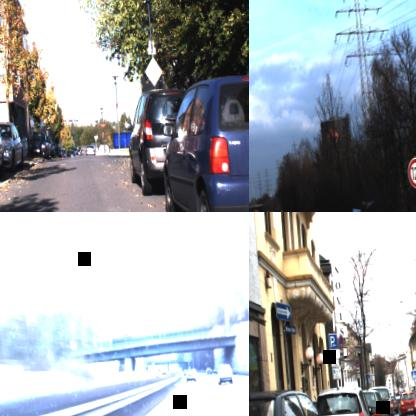priority road: (142, 55, 164, 87)
speed limit 120: (406, 156, 416, 189)
